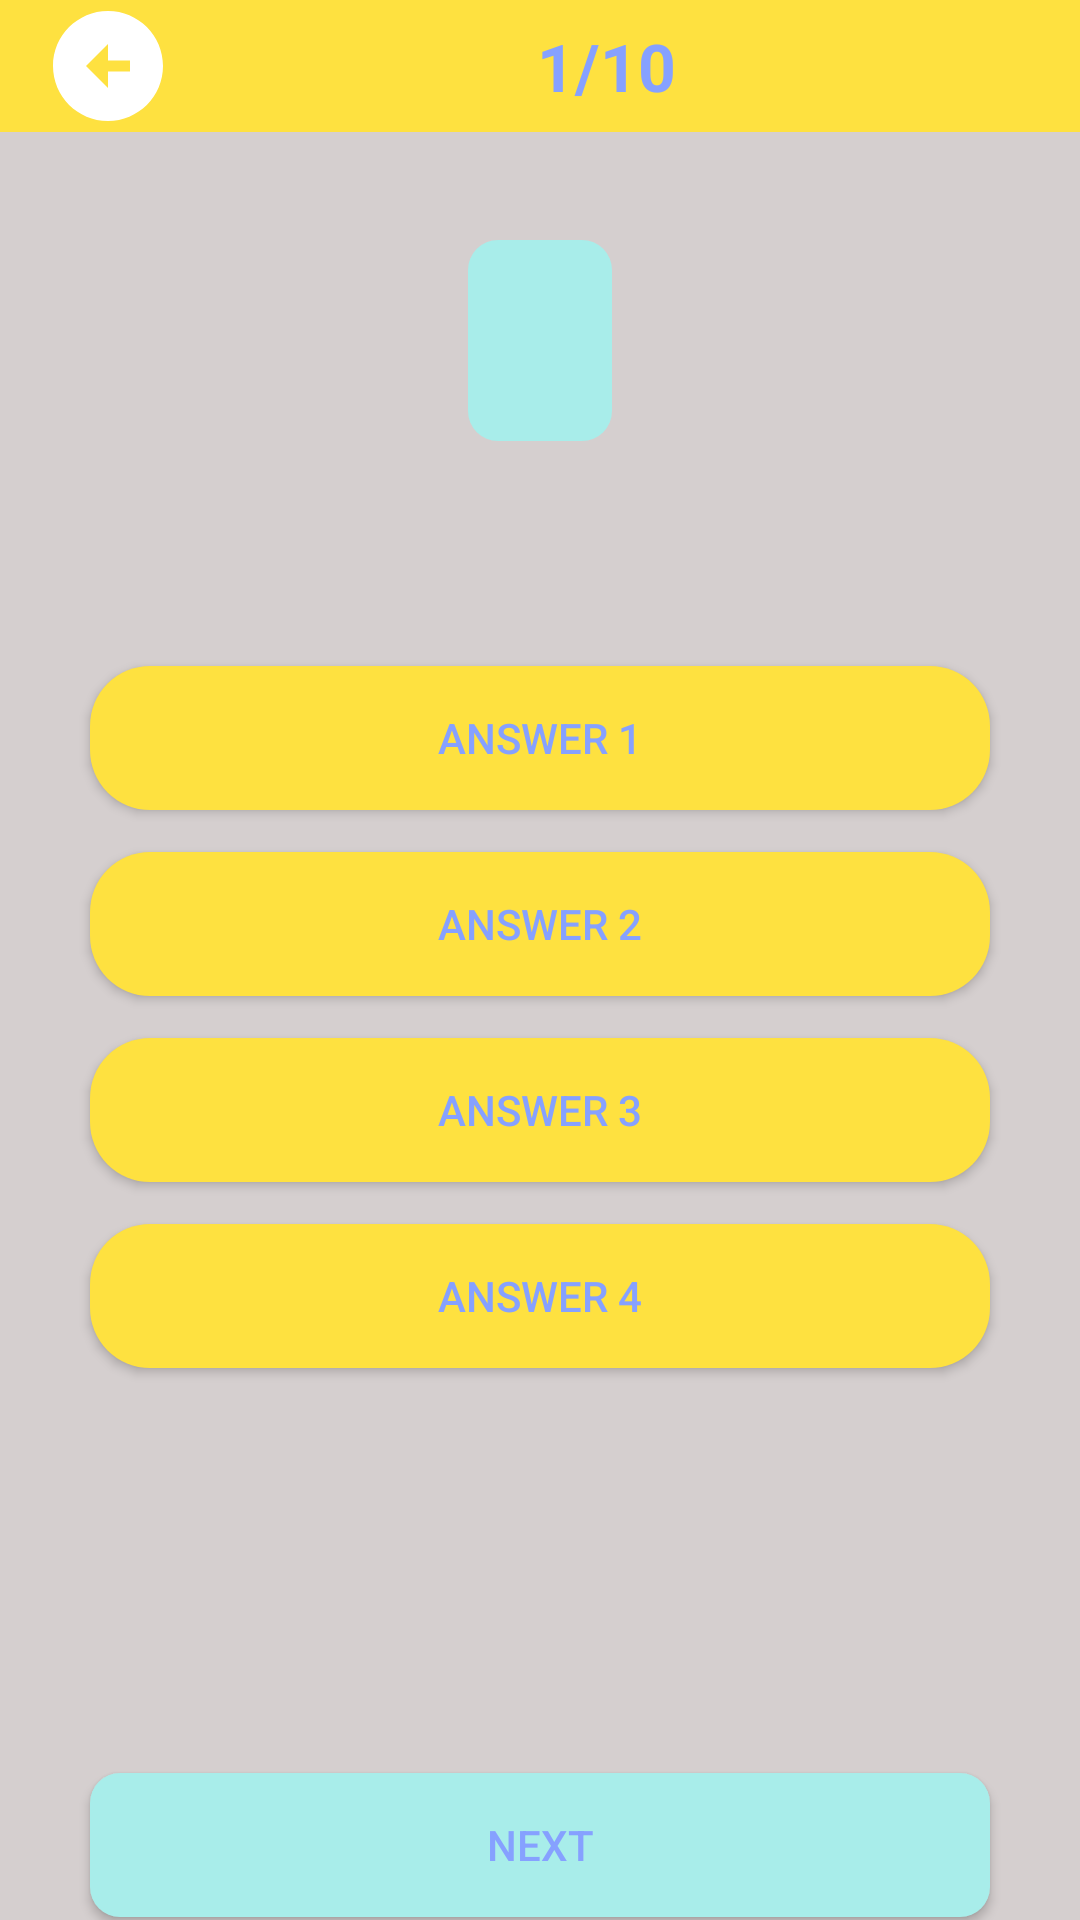

Icons on this 1080x1920 Android screen, each with its box as (x1, y1, x2, y2):
arrow circle left: (53, 11, 163, 121)
